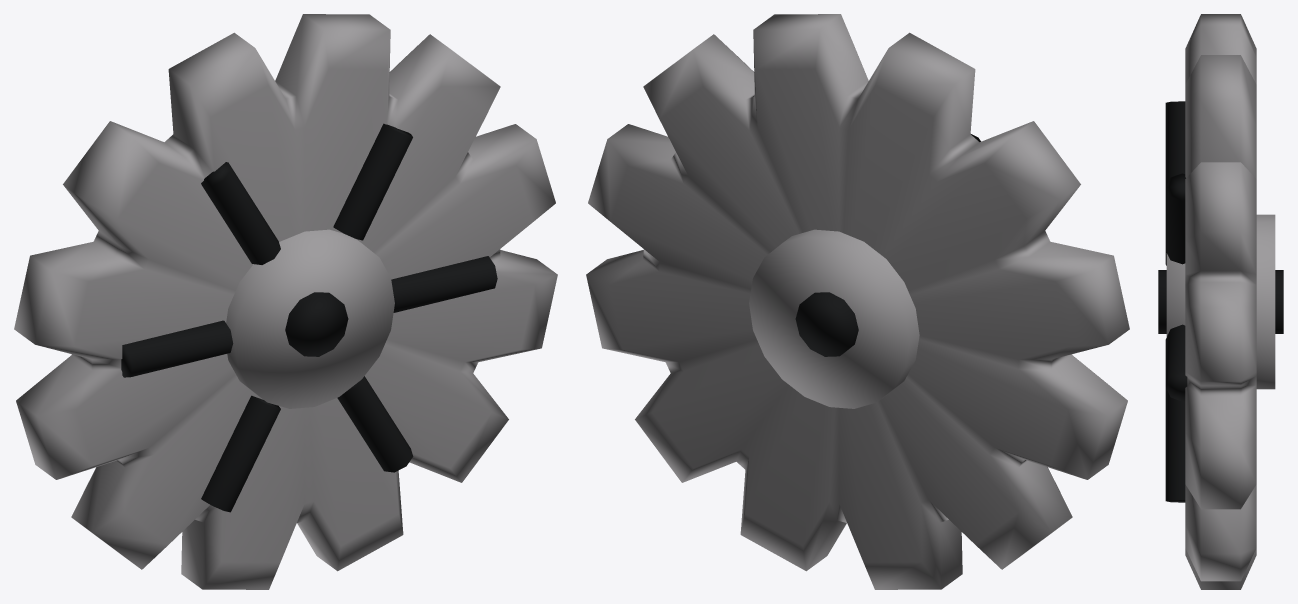
Rendered from Gear.glb.
The picture shows the model from 3 angles, left to right: view 1: azimuth 30°, elevation 25°; view 2: azimuth 150°, elevation 25°; view 3: azimuth 270°, elevation 25°; orthographic projection. The views are drawn at different scales.
Parts seen in each view (by area): view 1: Body, Hub, Spokes; view 2: Body, Hub; view 3: Body, Spokes, Hub.
Part boxes in pixels (left/top/right/bottom): Body: left=14, top=14, right=557, bottom=589; Hub: left=226, top=229, right=394, bottom=408; Spokes: left=121, top=123, right=497, bottom=512; Body: left=586, top=14, right=1129, bottom=589; Hub: left=749, top=229, right=919, bottom=408; Body: left=1185, top=14, right=1256, bottom=589; Spokes: left=1165, top=101, right=1187, bottom=502; Hub: left=1158, top=214, right=1283, bottom=389.
Size of the model in its own units: 0.9468 by 0.9468 by 0.2072.
1 material, 1 textured.
